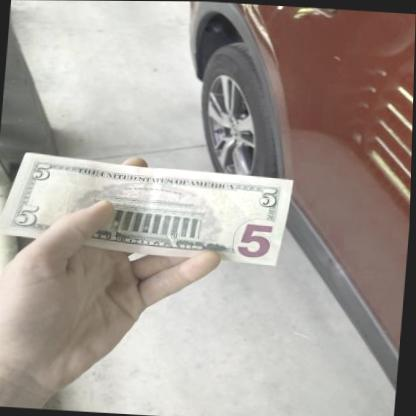five-back: (0, 152, 295, 266)
